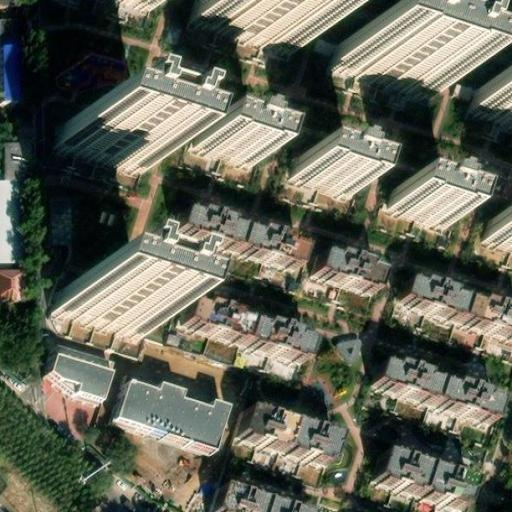building: (112, 386, 224, 455), (365, 368, 491, 429), (176, 308, 302, 369), (166, 214, 291, 275), (392, 285, 512, 347), (327, 37, 438, 101), (236, 411, 336, 471), (49, 285, 145, 345), (372, 455, 472, 512), (50, 120, 146, 179), (45, 354, 110, 412), (191, 132, 260, 173), (287, 161, 356, 202), (307, 258, 373, 300), (387, 191, 456, 231), (465, 83, 512, 128), (211, 490, 287, 512), (480, 222, 512, 254), (0, 269, 24, 299), (0, 22, 22, 46)
